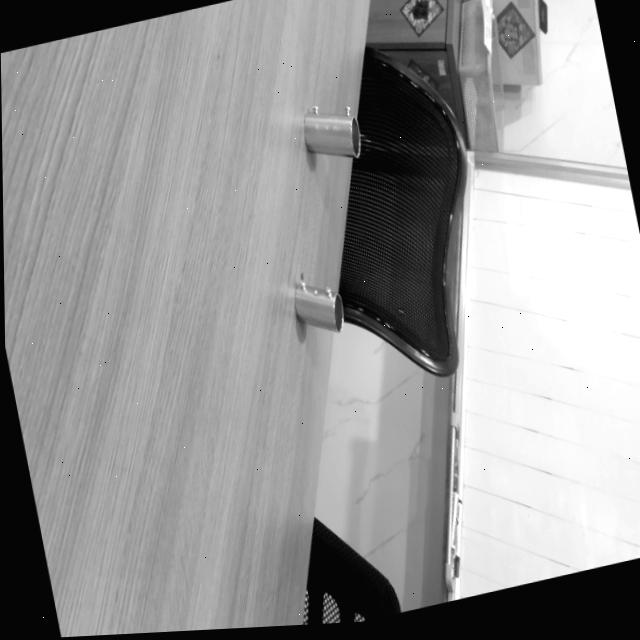Co_Lon: (303, 105, 360, 156)
Co_Nho: (287, 277, 351, 332)
